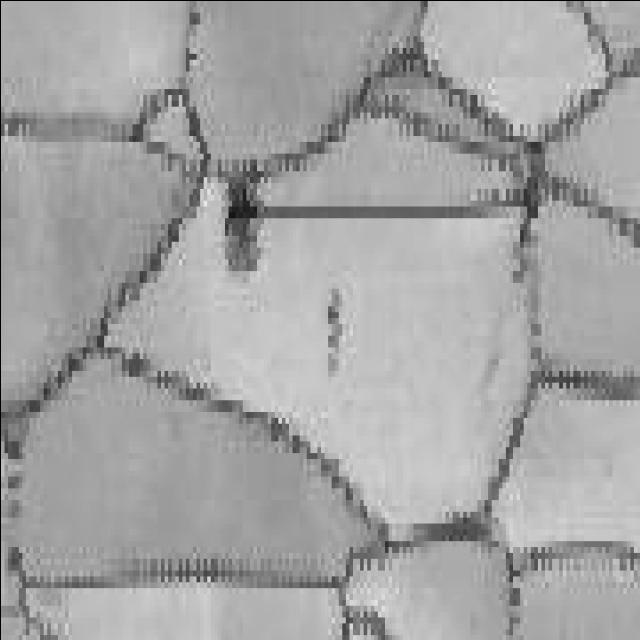good_void: (220, 165, 269, 276), (325, 288, 347, 377)
